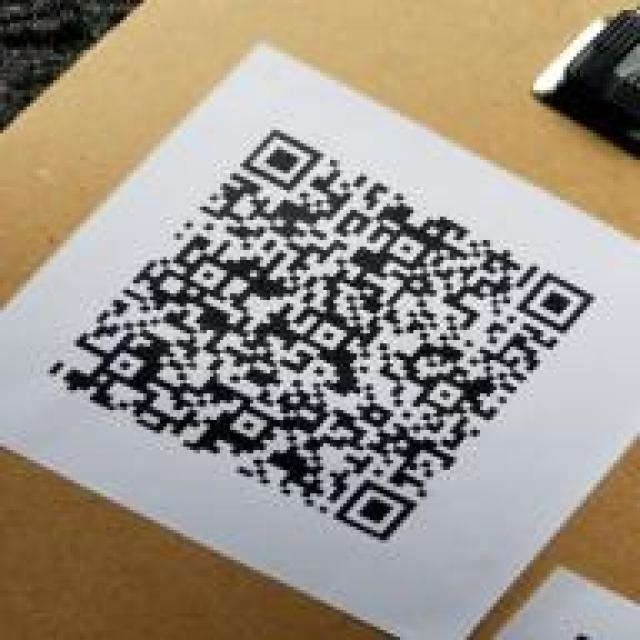QR_CODE: (37, 116, 610, 556)
